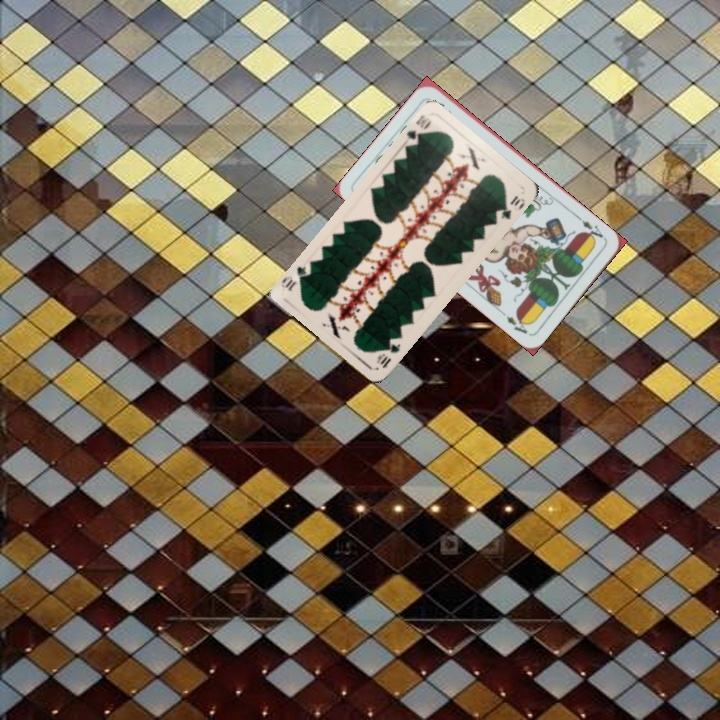EA: (574, 212, 608, 245)
G10: (402, 111, 434, 145), (372, 338, 403, 371)
